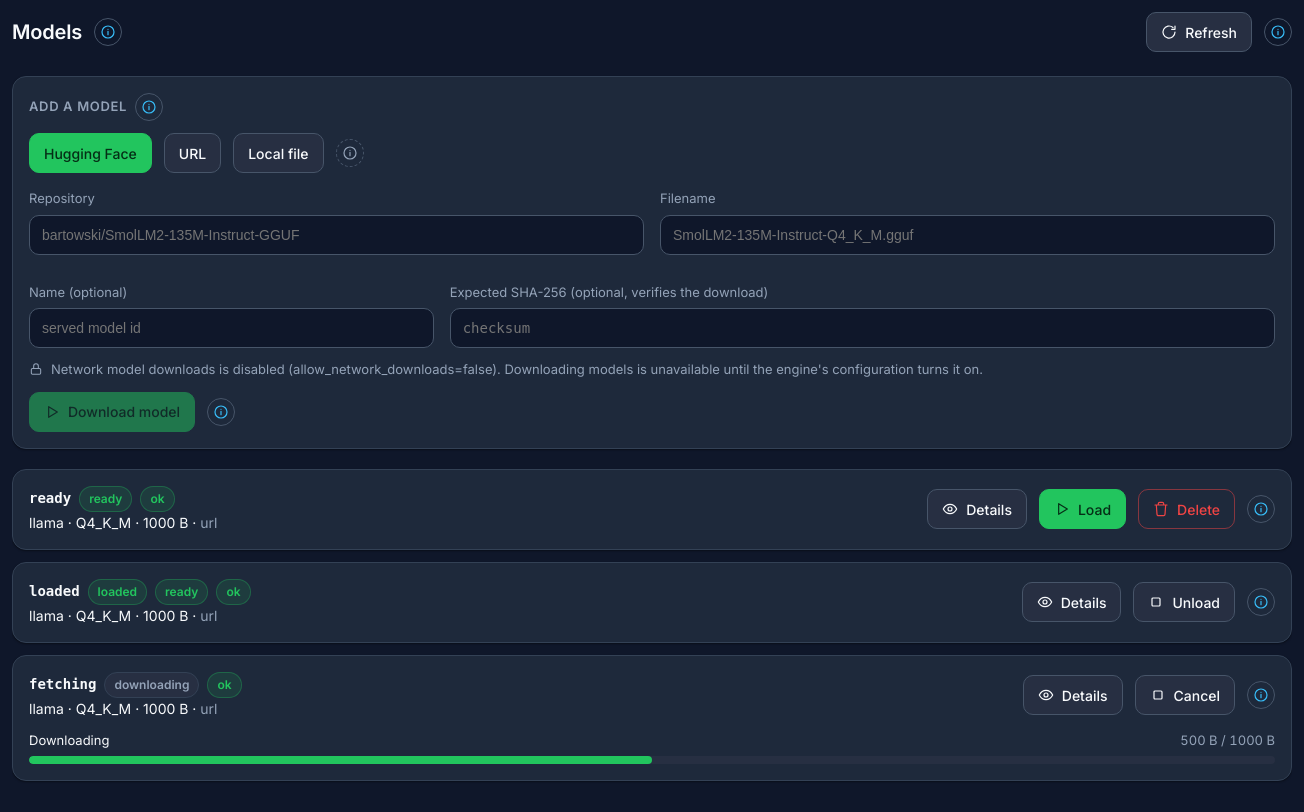
Scenario: Models with feature switches › restricts only downloads when network downloads alone are off
This screenshot has width=1304, height=812.
Expected: the 1st text "ready" is shown, [29,488,71,509]
Expected: the button "Download model" is disabled, [29,392,195,432]
Click the tab "Local file" at (278, 153), box [233,133,324,173]
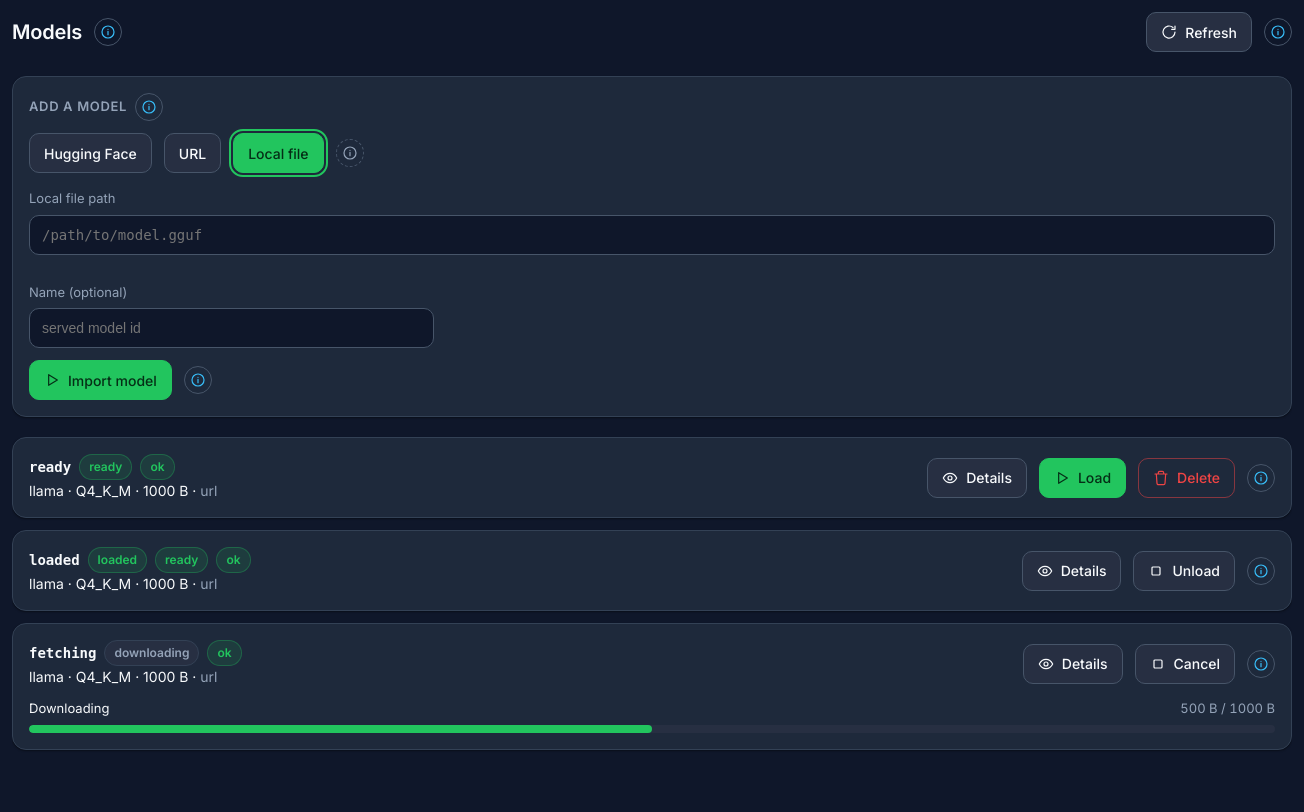
Expected: the button "Import model" is enabled, [29,360,172,400]
